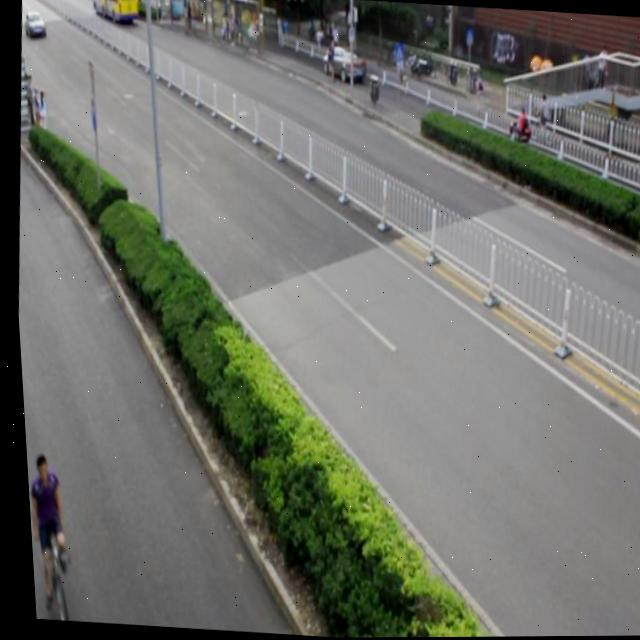car: (319, 42, 367, 89)
